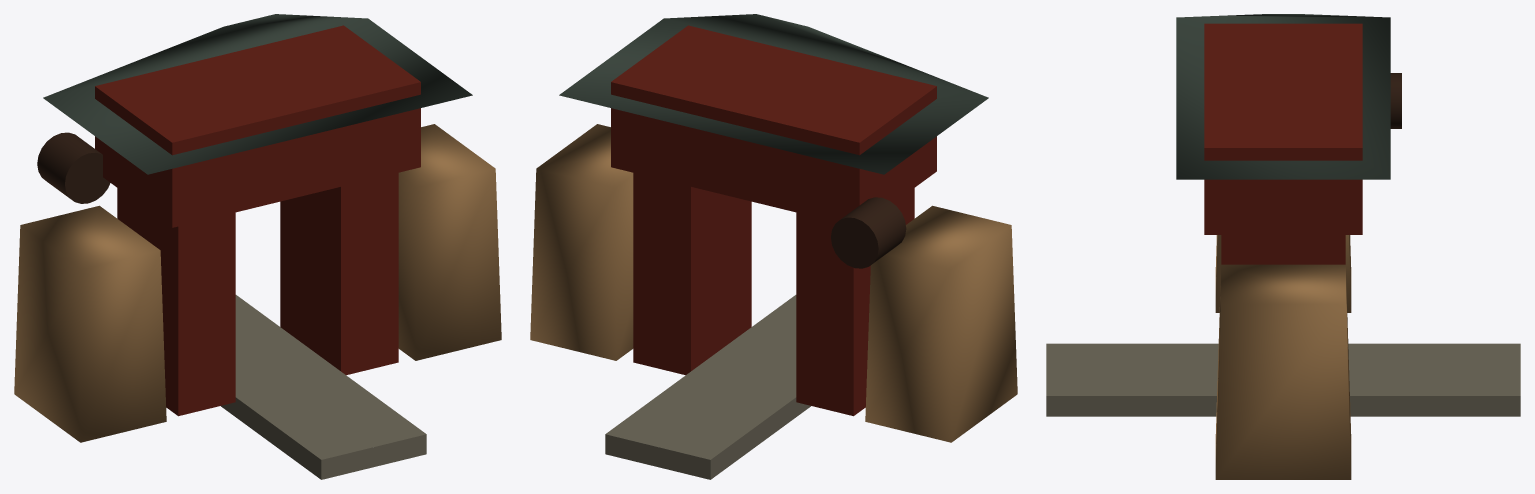
File: R20_HAN_LUOYANG_GATE_YONGMEN_A.fbx
3 renders of one model, left to right at view 1: azimuth 30°, elevation 25°; view 2: azimuth 150°, elevation 25°; view 3: azimuth 270°, elevation 25°, orthographic. The views are drawn at different scales.
Visible parts, largest first — view 1: house, wall_e, pier_w, wall_w, road, roof, pier_e, drum; view 2: house, wall_e, pier_w, wall_w, road, roof, pier_e, drum; view 3: house, wall_w, road, roof, pier_w, wall_e, drum.
Part boxes in pixels (<box>): house: <box>95,25,420,227</box>; wall_e: <box>14,205,166,442</box>; pier_w: <box>280,173,398,375</box>; wall_w: <box>398,124,501,360</box>; road: <box>221,295,426,479</box>; roof: <box>43,14,472,174</box>; pier_e: <box>117,188,235,416</box>; drum: <box>37,132,110,203</box>; house: <box>611,25,936,222</box>; wall_e: <box>865,205,1017,442</box>; pier_w: <box>633,173,751,375</box>; wall_w: <box>530,124,633,360</box>; road: <box>605,295,810,479</box>; roof: <box>559,14,988,174</box>; pier_e: <box>796,188,914,416</box>; drum: <box>831,197,906,268</box>; house: <box>1204,23,1362,234</box>; wall_w: <box>1215,264,1351,479</box>; road: <box>1046,343,1520,416</box>; roof: <box>1176,14,1390,179</box>; pier_w: <box>1221,235,1345,264</box>; wall_e: <box>1215,235,1351,312</box>; drum: <box>1390,73,1401,128</box>.
Size of the model in its own units: 88 by 71 by 84.
